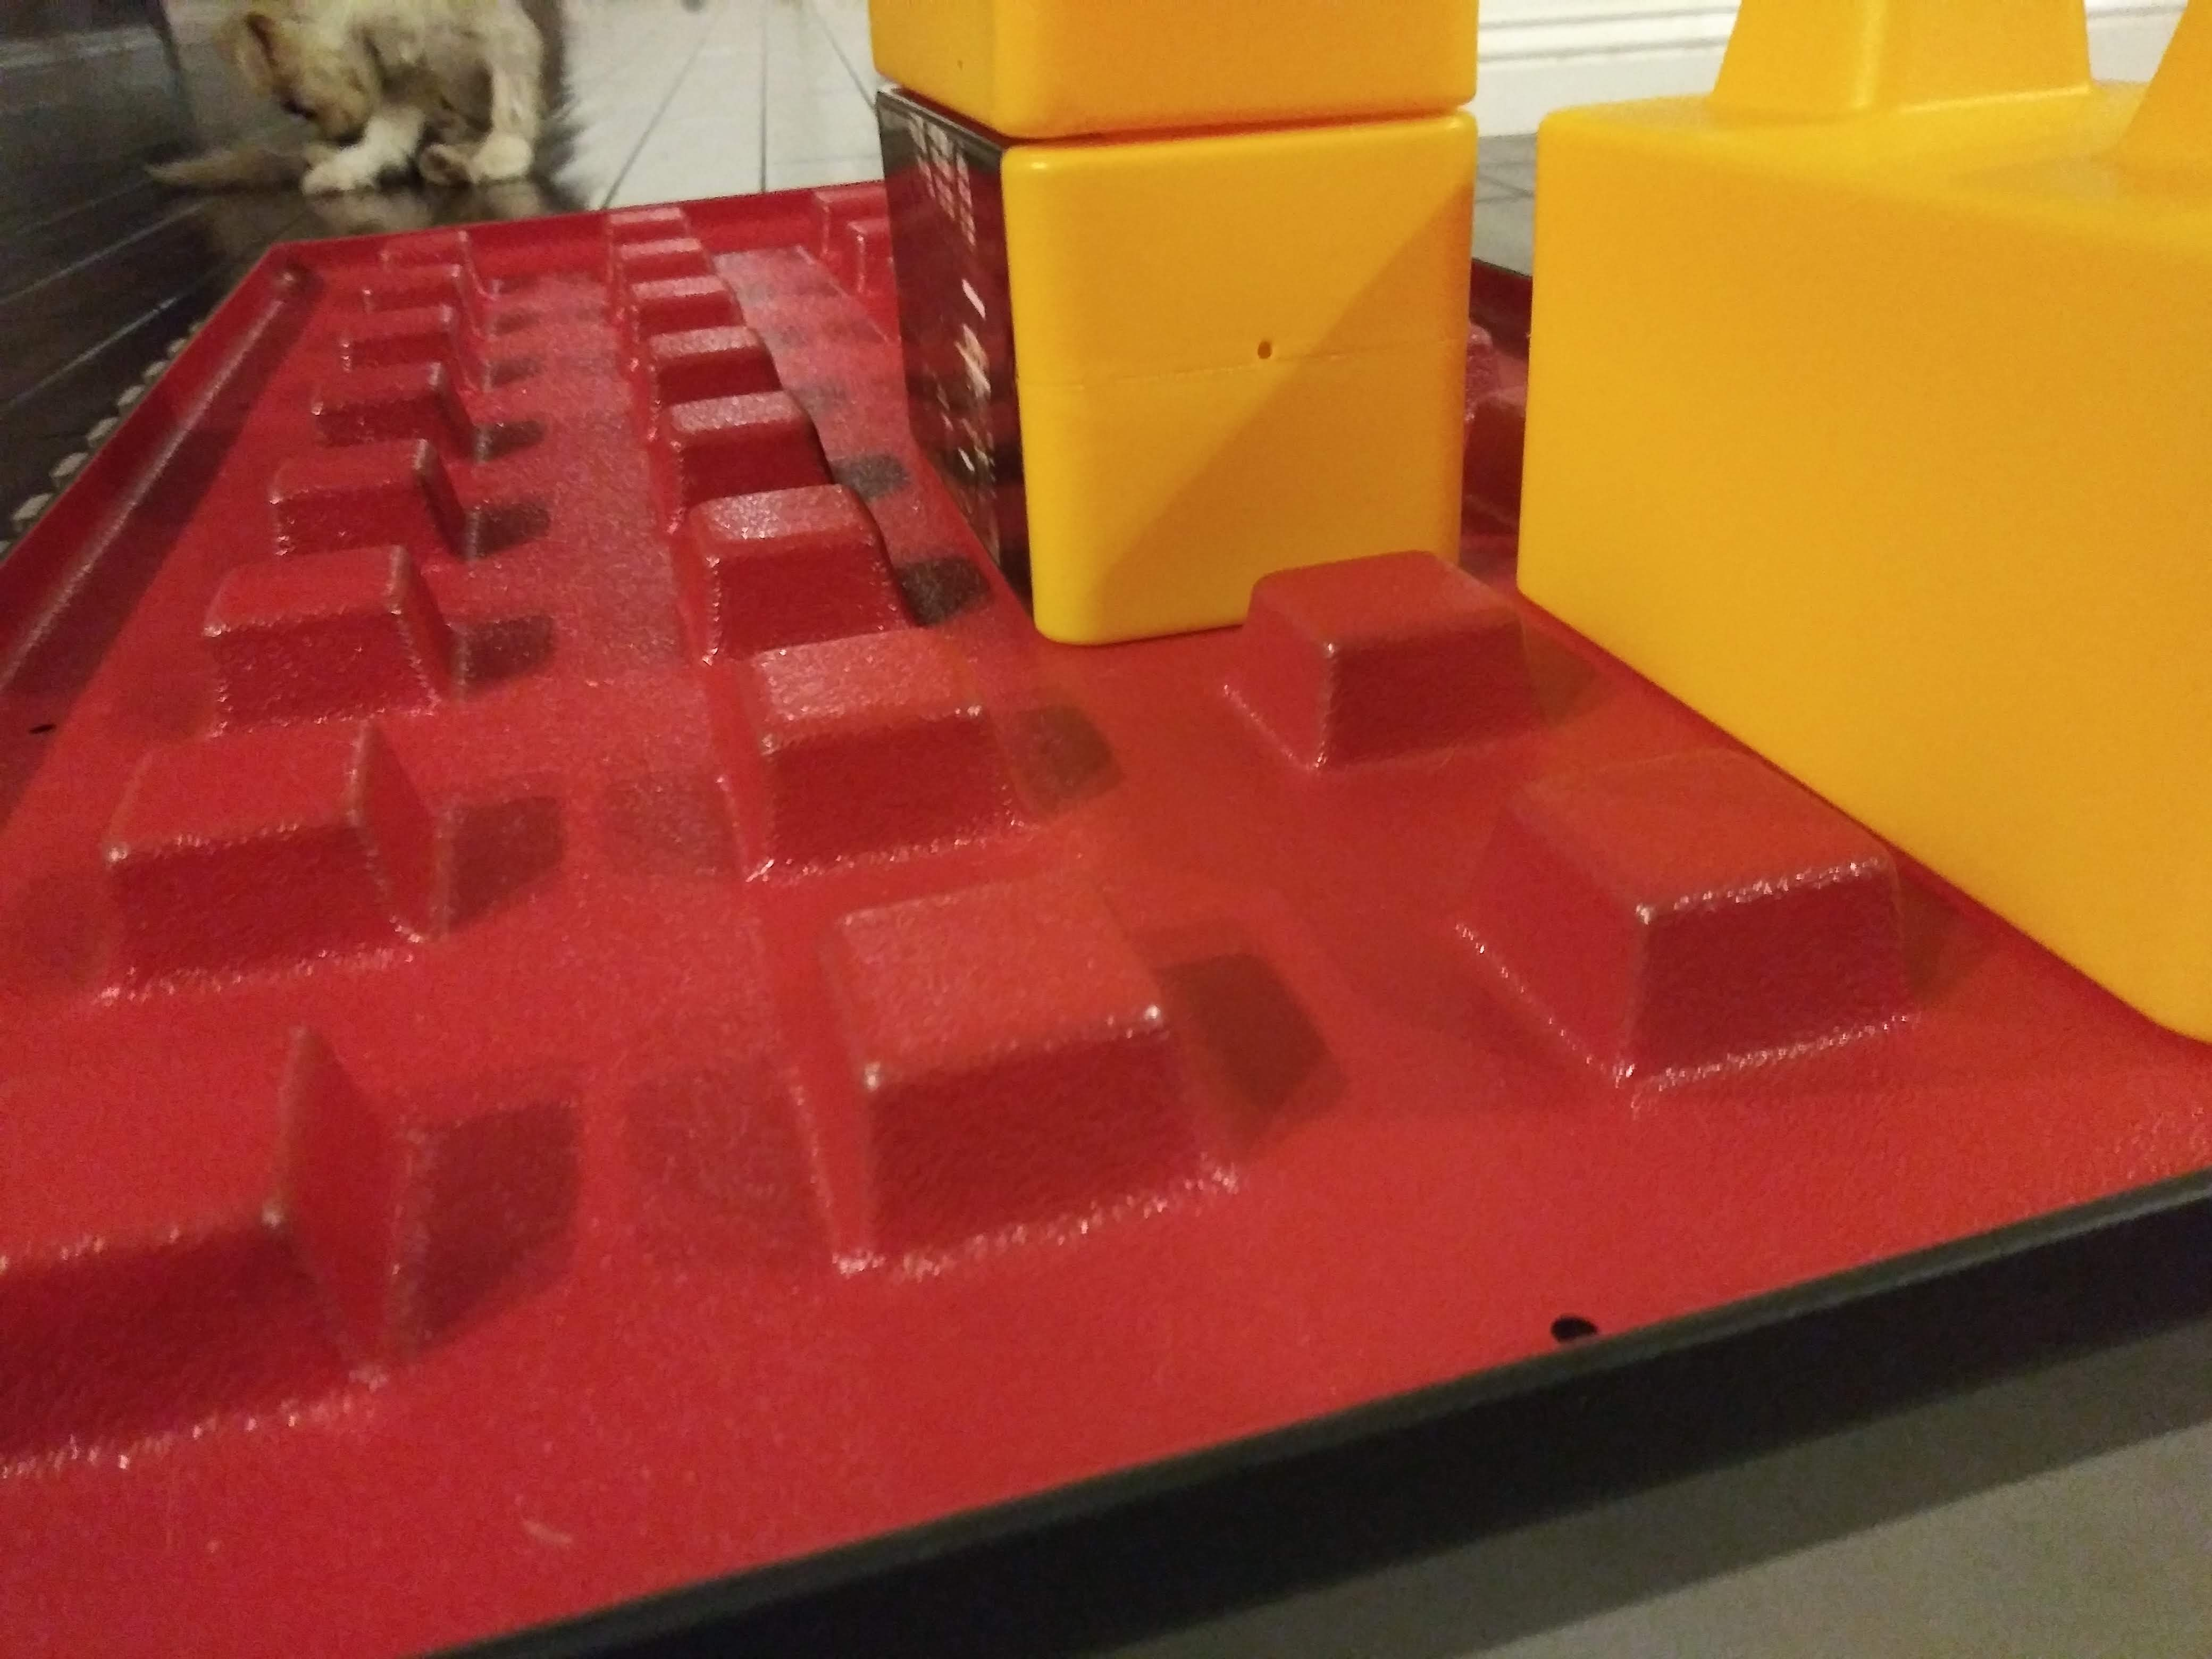red foundation: (49, 188, 2120, 1321)
